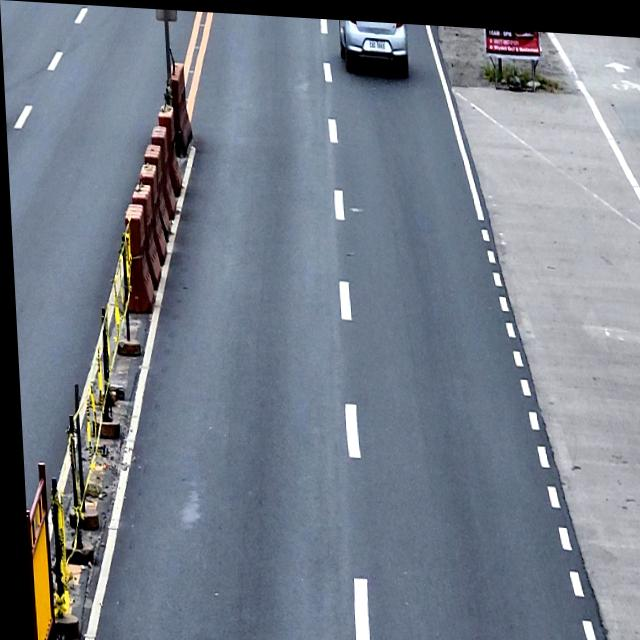Car: (338, 16, 409, 72)
License-Plate: (368, 35, 386, 47)
